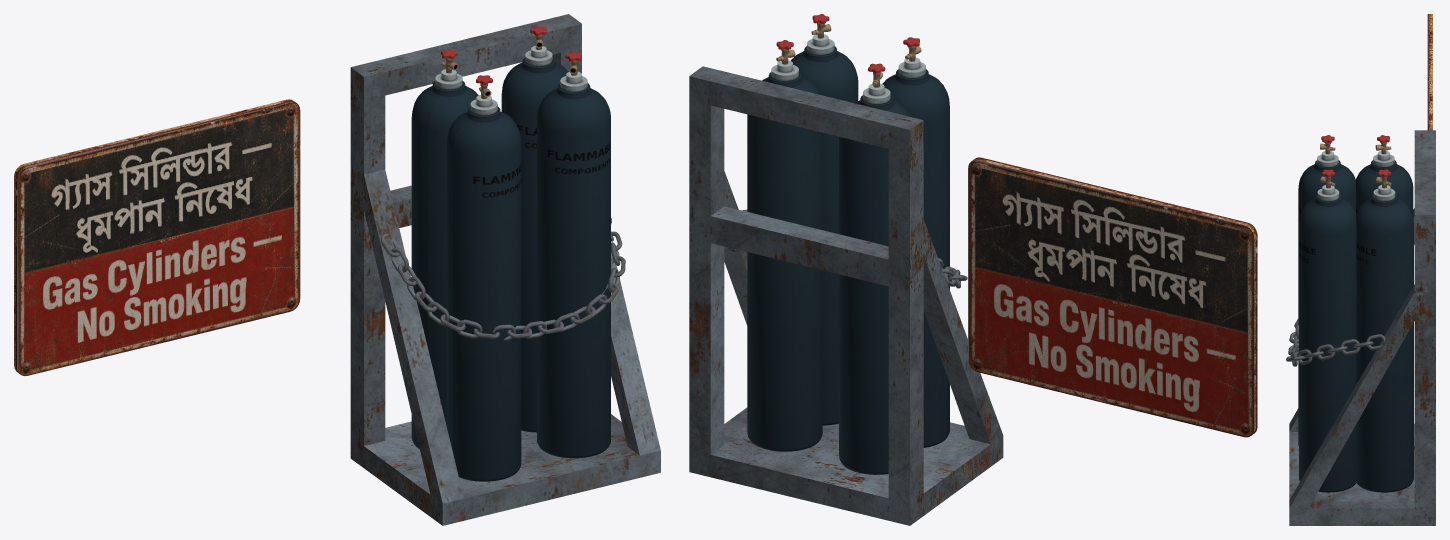
File: GasCylinder.glb
3 views of the same model, side by side, from view 1: azimuth 30°, elevation 25°; view 2: azimuth 150°, elevation 25°; view 3: azimuth 270°, elevation 25° (orthographic). The views are drawn at different scales.
Parts seen in each view (by area): view 1: Cube.001, Cube, SM_GasCylinder_02, SM_GasCylinder_02.002, SM_GasCylinder_02.001, SM_GasCylinder_02.003; view 2: Cube.001, Cube, SM_GasCylinder_02.003, SM_GasCylinder_02.001, SM_GasCylinder_02, SM_GasCylinder_02.002; view 3: Cube, SM_GasCylinder_02.003, SM_GasCylinder_02.002, SM_GasCylinder_02, SM_GasCylinder_02.001, Cube.001.
Boxes of the visible parts, x1=… form: Cube.001: x1=14, y1=99, x2=300, y2=375; Cube: x1=350, y1=14, x2=660, y2=525; SM_GasCylinder_02: x1=447, y1=75, x2=521, y2=481; SM_GasCylinder_02.002: x1=537, y1=51, x2=610, y2=458; SM_GasCylinder_02.001: x1=411, y1=49, x2=478, y2=449; SM_GasCylinder_02.003: x1=501, y1=26, x2=568, y2=432; Cube.001: x1=968, y1=157, x2=1257, y2=437; Cube: x1=689, y1=66, x2=1003, y2=525; SM_GasCylinder_02.003: x1=747, y1=40, x2=822, y2=451; SM_GasCylinder_02.001: x1=839, y1=63, x2=910, y2=474; SM_GasCylinder_02: x1=882, y1=37, x2=949, y2=447; SM_GasCylinder_02.002: x1=790, y1=14, x2=858, y2=425; Cube: x1=1286, y1=130, x2=1435, y2=525; SM_GasCylinder_02.003: x1=1356, y1=169, x2=1413, y2=492; SM_GasCylinder_02.002: x1=1299, y1=169, x2=1356, y2=492; SM_GasCylinder_02: x1=1298, y1=135, x2=1355, y2=445; SM_GasCylinder_02.001: x1=1355, y1=135, x2=1413, y2=216; Cube.001: x1=1427, y1=14, x2=1432, y2=130.
Bounding box in the file's own units: 2.35 × 1.68 × 0.6902.
Materials: 3 (3 with a texture image).
